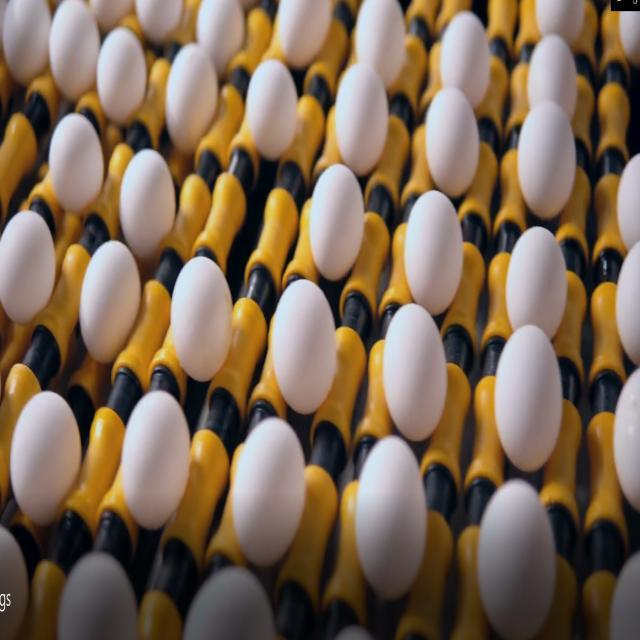Egg: (477, 481, 565, 634), (230, 418, 321, 564), (357, 436, 430, 590), (268, 286, 346, 420), (380, 297, 451, 438), (9, 389, 82, 526), (124, 392, 195, 530), (74, 237, 147, 364), (498, 327, 562, 469), (167, 254, 235, 382), (305, 166, 382, 274), (405, 190, 468, 318), (243, 56, 314, 166), (331, 61, 401, 172), (56, 551, 143, 640), (180, 564, 278, 640), (507, 228, 570, 338), (1, 210, 59, 325), (520, 111, 579, 222), (119, 147, 179, 256), (424, 91, 484, 200), (163, 36, 221, 148), (48, 108, 110, 212), (352, 2, 418, 97), (94, 28, 155, 126), (436, 11, 498, 104), (526, 36, 584, 127), (52, 4, 107, 96), (4, 0, 49, 90), (272, 0, 330, 66), (615, 366, 640, 512), (617, 148, 640, 254)
